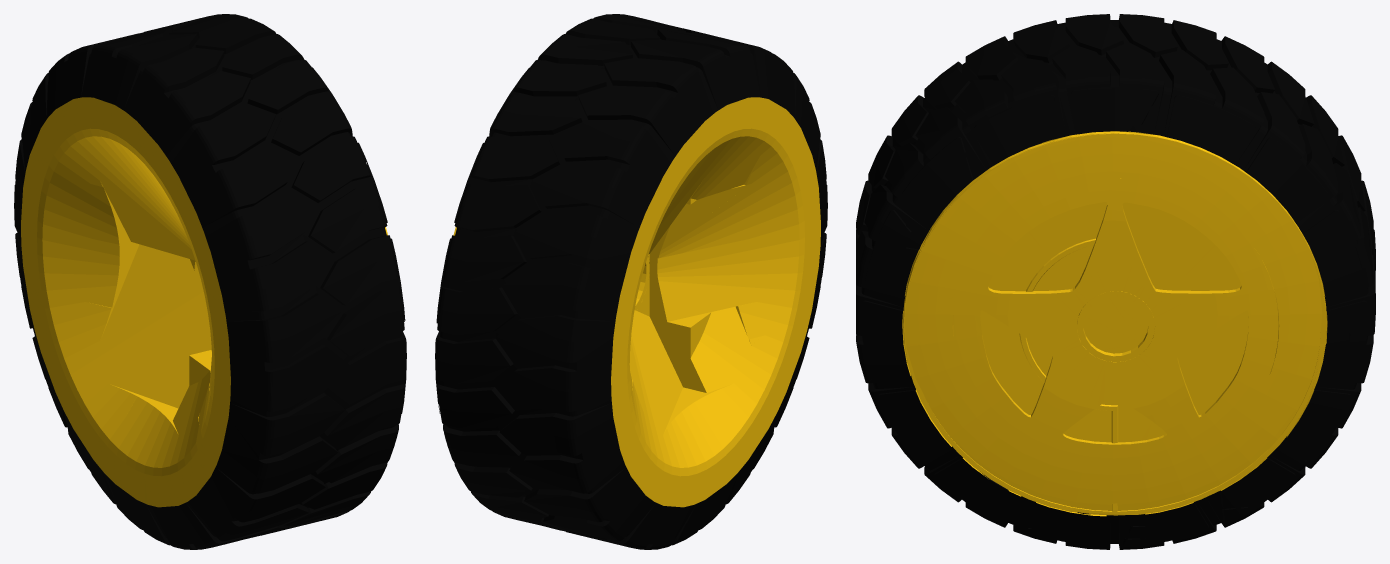
The model's file is GoPiGo3_Wheel.obj.
3 views of the same model, side by side, from view 1: azimuth 30°, elevation 25°; view 2: azimuth 150°, elevation 25°; view 3: azimuth 270°, elevation 25° (orthographic).
Visible parts, largest first — view 1: Wheel_L_Material.006, Wheel_L_Material.008; view 2: Wheel_L_Material.006, Wheel_L_Material.008; view 3: Wheel_L_Material.008, Wheel_L_Material.006.
Part boxes in pixels (<box>): Wheel_L_Material.006: <box>14,14,406,549</box>; Wheel_L_Material.008: <box>21,97,387,507</box>; Wheel_L_Material.006: <box>435,14,827,549</box>; Wheel_L_Material.008: <box>453,97,820,507</box>; Wheel_L_Material.008: <box>902,131,1327,516</box>; Wheel_L_Material.006: <box>856,14,1375,549</box>.
Size of the model in its own units: 2.23 by 5.7 by 5.68.
